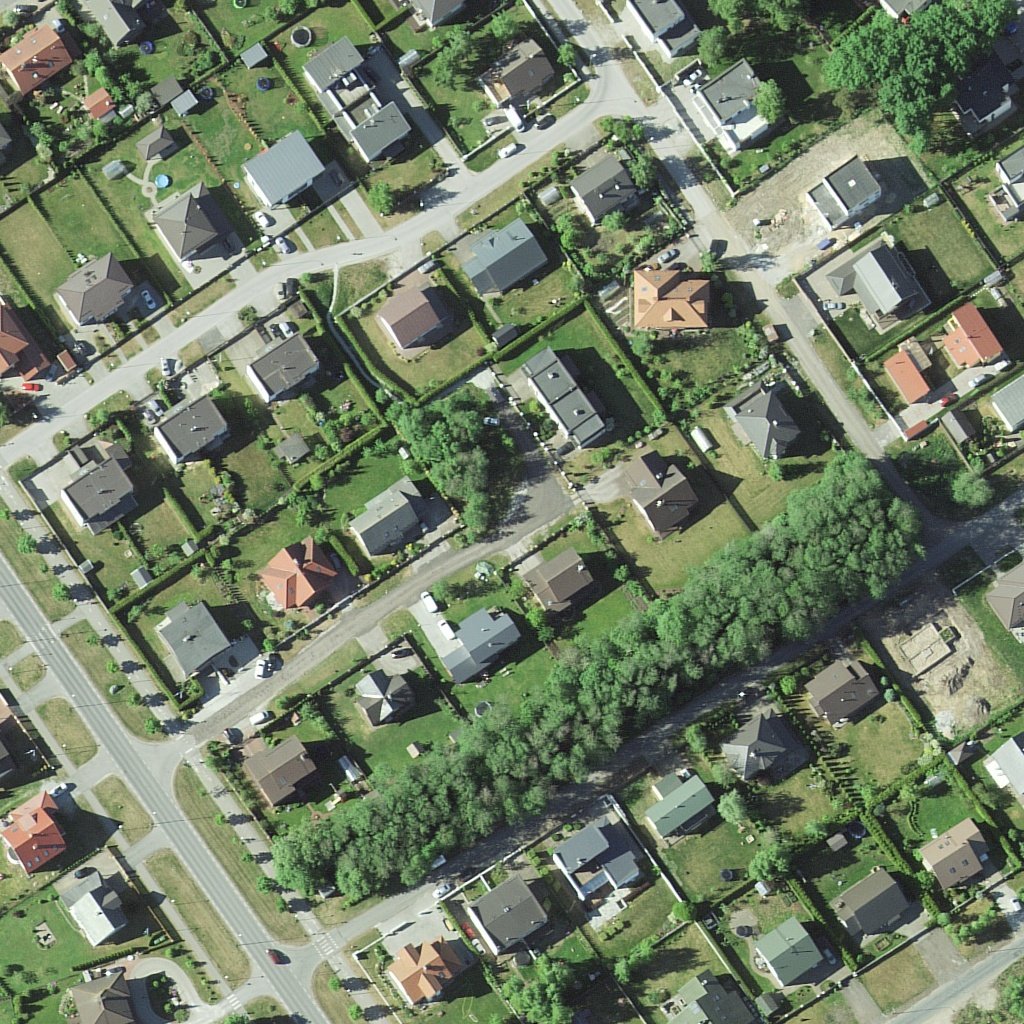building: (303, 37, 416, 156), (455, 217, 560, 299), (518, 351, 609, 444), (621, 266, 720, 344), (556, 816, 645, 902), (262, 529, 342, 616), (828, 239, 925, 309), (724, 386, 807, 462), (60, 459, 143, 535), (254, 133, 328, 216), (444, 606, 521, 685), (234, 732, 314, 806), (796, 652, 877, 725), (476, 876, 550, 955), (352, 484, 424, 561), (55, 258, 134, 328), (157, 601, 236, 671), (561, 158, 642, 226), (663, 968, 760, 1024), (157, 397, 240, 462), (627, 1, 707, 68), (636, 775, 721, 838), (5, 790, 71, 871), (835, 869, 905, 944), (628, 448, 691, 529), (702, 72, 768, 149), (385, 942, 462, 1008), (945, 297, 1008, 375), (722, 713, 791, 784), (522, 549, 596, 615), (251, 335, 327, 398), (758, 919, 824, 989), (345, 666, 417, 728), (490, 37, 555, 105), (148, 189, 212, 258), (922, 817, 980, 886), (374, 288, 445, 342), (71, 884, 132, 946), (11, 29, 71, 89), (812, 163, 882, 212), (69, 972, 133, 1024), (880, 342, 932, 403)
